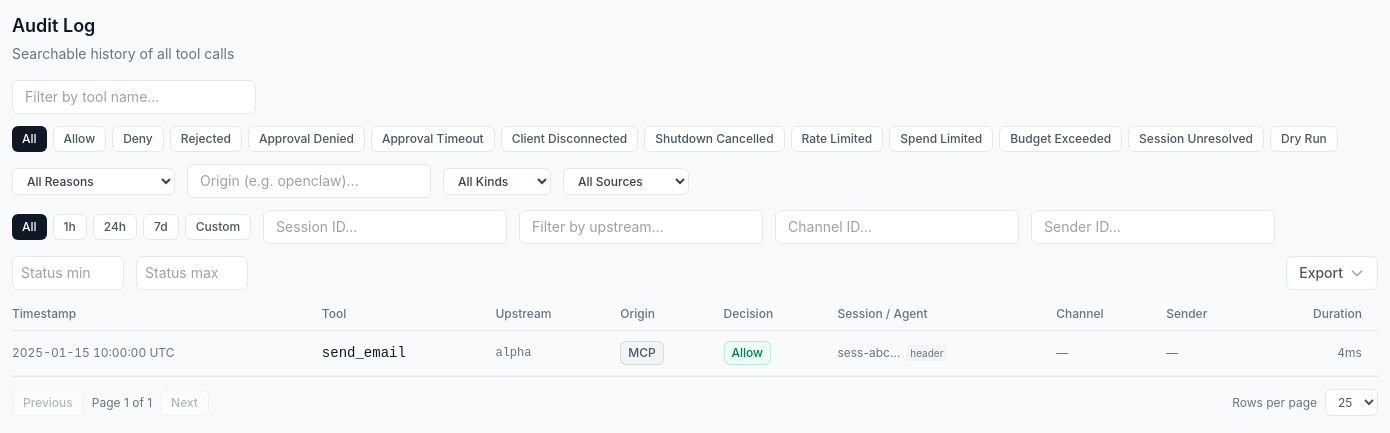
it: upstream attribution (issue #297) › shows the no-match copy when an upstream filter matches zero records (issue #297)
Type "ghost" into the field with placeholder "Filter by upstream…" at (641, 227), box [519, 210, 763, 244]
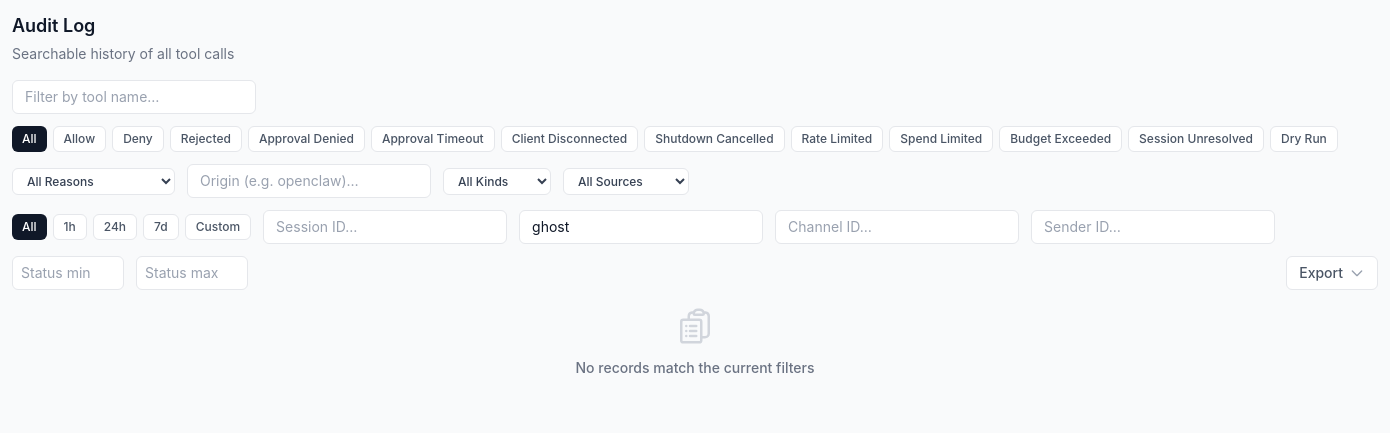
Expected: the text "No records match the current filters" is shown, [576, 358, 814, 378]
